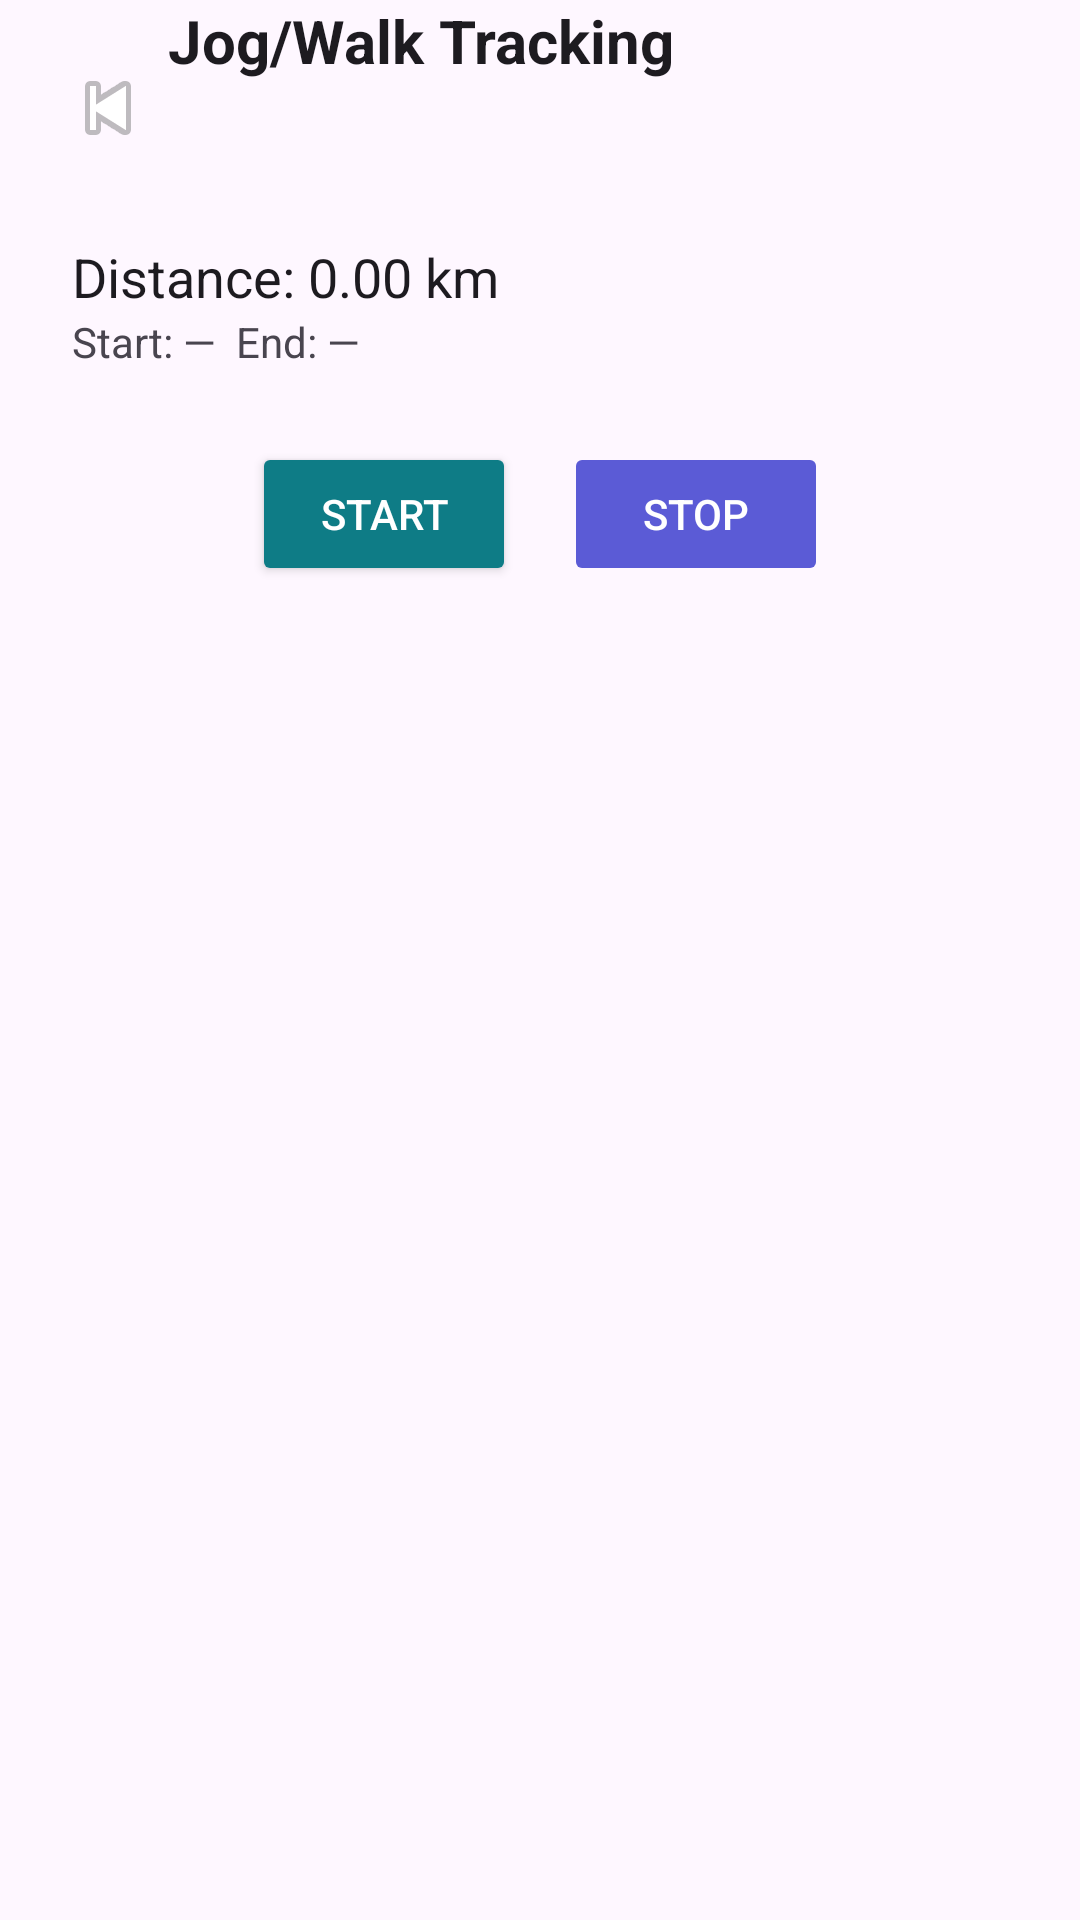

Point at icon controls on the screen. Image size 1080*1920, points as (x=x, y=y).
previous: (x=108, y=108)
